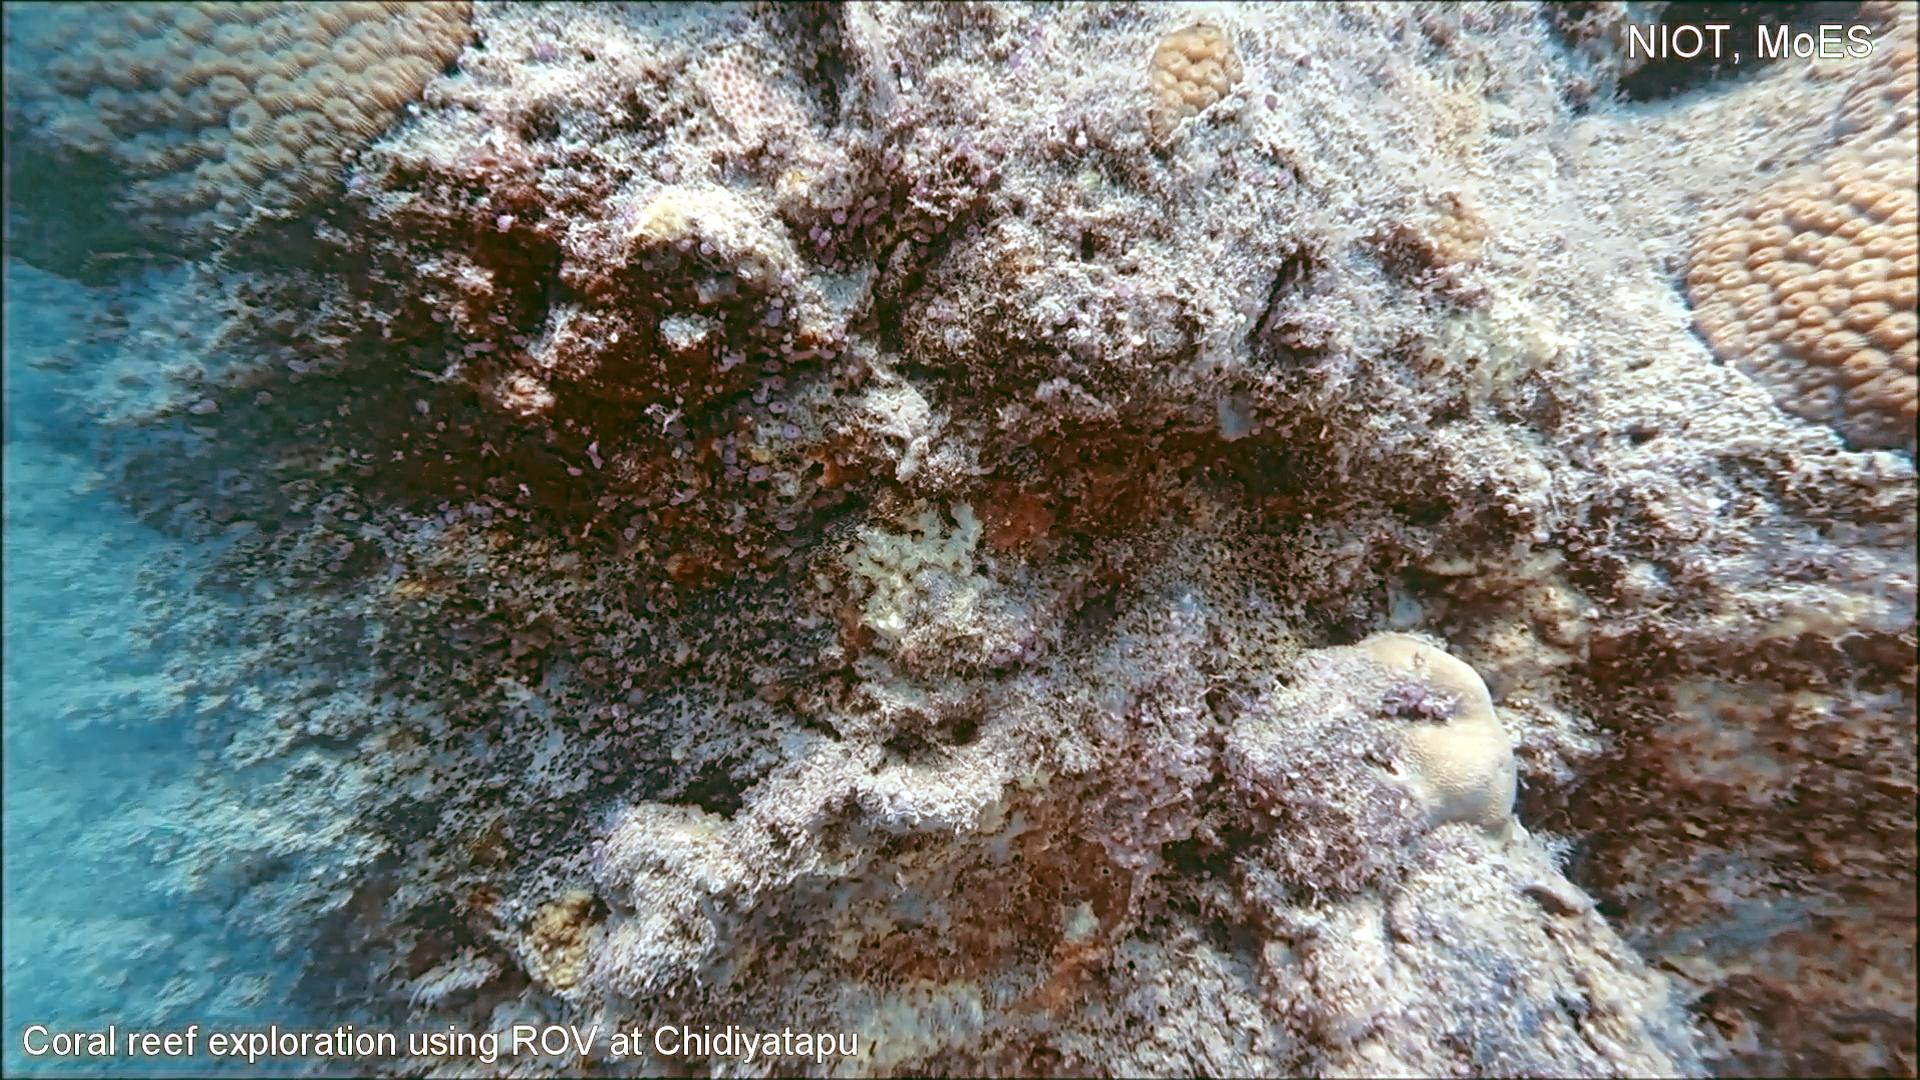Montastraea: (0, 0, 485, 261), (1669, 0, 1920, 458), (1139, 16, 1250, 150)
